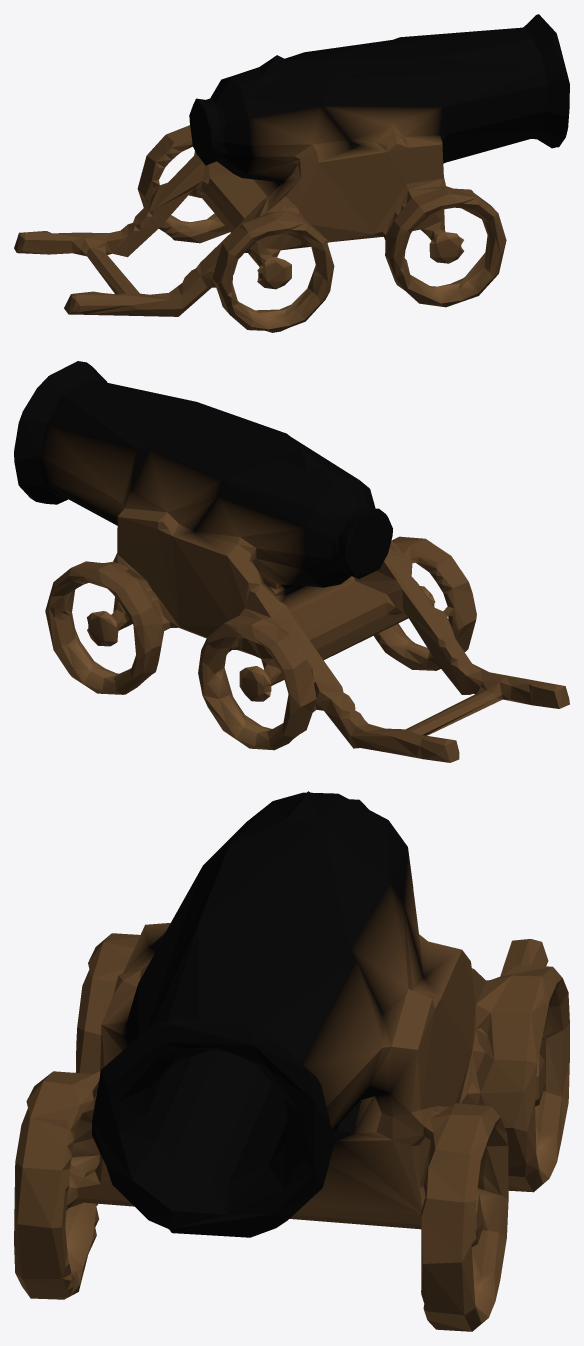
File: Cannons.glb
3 renders of one model, top to bottom at view 1: azimuth 30°, elevation 25°; view 2: azimuth 150°, elevation 25°; view 3: azimuth 270°, elevation 25°, orthographic. The views are drawn at different scales.
Parts seen in each view (by area): view 1: Root; view 2: Root; view 3: Root.
Part boxes in pixels (x1=…): Root: x1=14, y1=14, x2=569, y2=332; Root: x1=14, y1=361, x2=569, y2=762; Root: x1=14, y1=791, x2=569, y2=1331.
Bounding box in the file's own units: 3.89 × 1.72 × 2.12.
